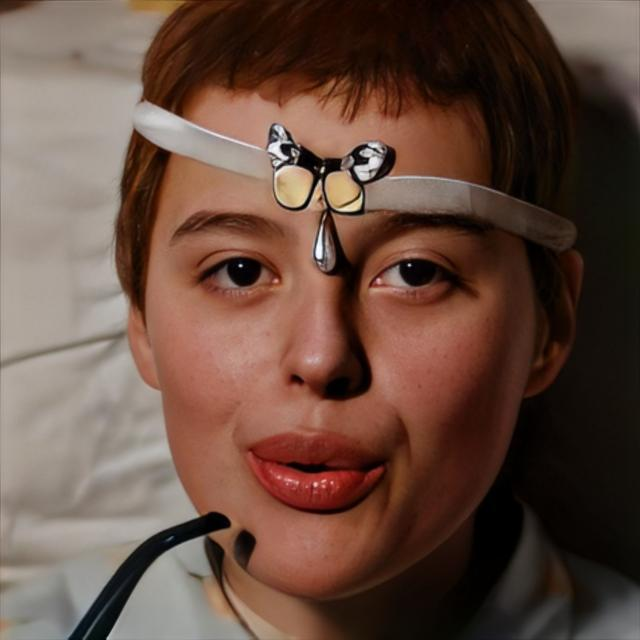surprise: (143, 70, 539, 602)
